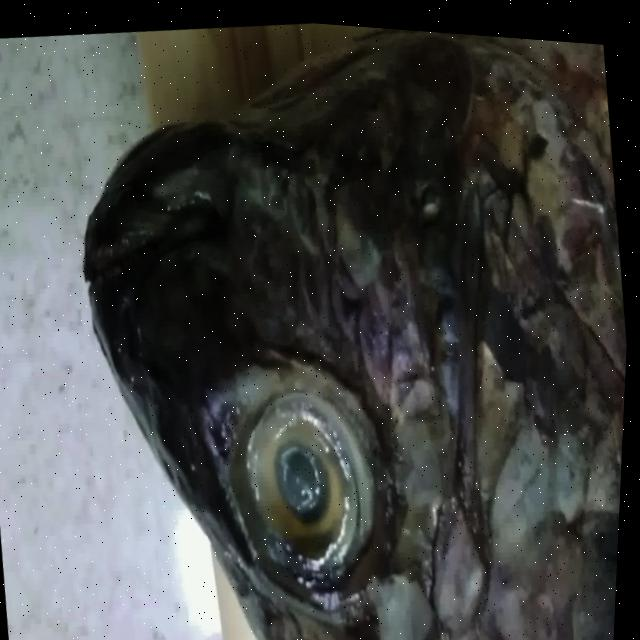Non-Fresh: (217, 355, 400, 599)
